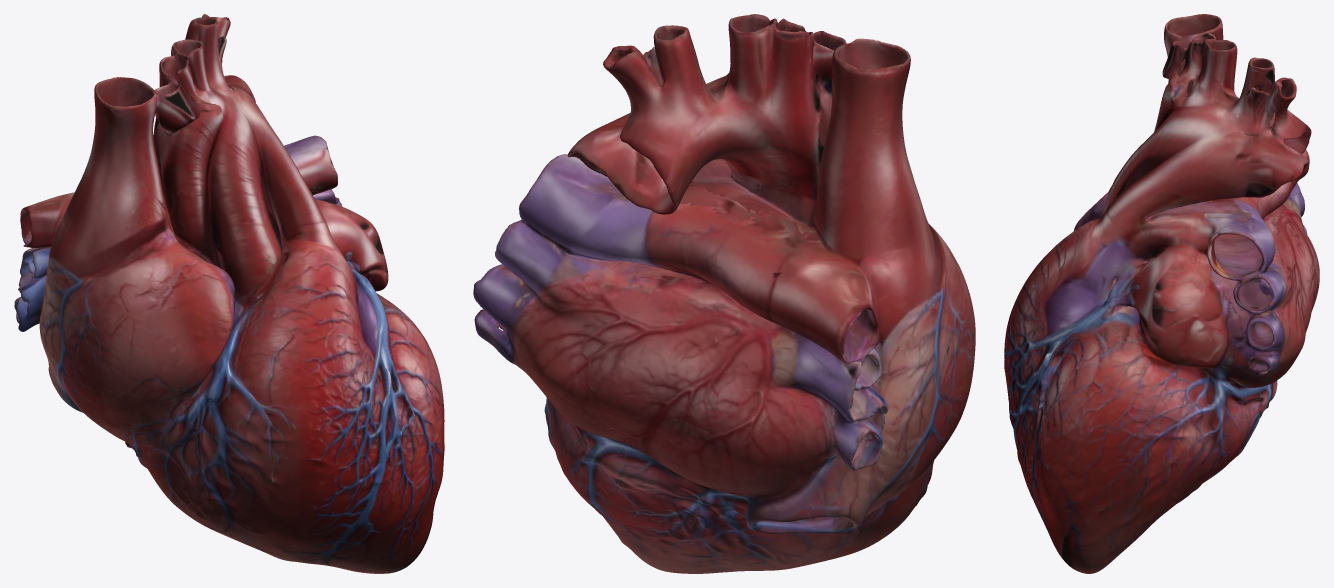
The model's file is heart-circulation.glb.
The picture shows the model from 3 angles, left to right: view 1: azimuth 30°, elevation 25°; view 2: azimuth 150°, elevation 25°; view 3: azimuth 270°, elevation 25°; orthographic projection. The views are drawn at different scales.
Parts seen in each view (by area): view 1: Mesh1_Mesh1.043_Material.001_0; view 2: Mesh1_Mesh1.043_Material.001_0; view 3: Mesh1_Mesh1.043_Material.001_0.
Boxes of the visible parts, x1,y1,x2,y2 form: Mesh1_Mesh1.043_Material.001_0: (14, 14, 444, 573); Mesh1_Mesh1.043_Material.001_0: (473, 14, 975, 573); Mesh1_Mesh1.043_Material.001_0: (1004, 14, 1319, 573).
Bounding box in the file's own units: 43807 × 65551 × 40126.
1 material, 1 textured.
